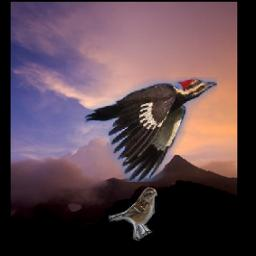Sparrow: (109, 185, 158, 241)
Woodpecker: (85, 78, 218, 183)
